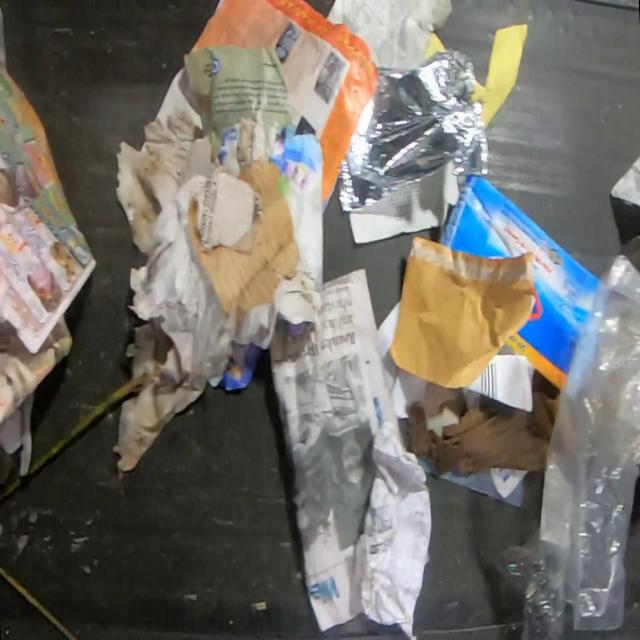cardboard: (189, 159, 300, 320)
soft_plastic: (503, 253, 640, 639), (335, 49, 489, 214)
